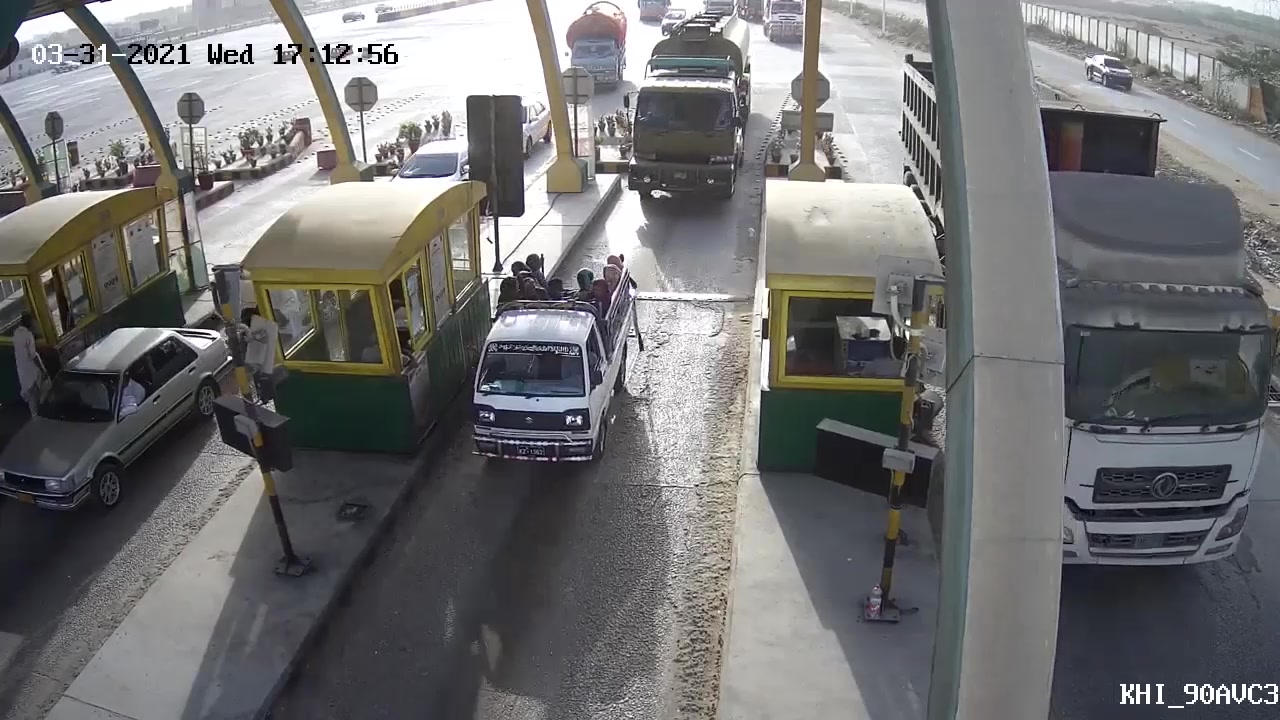F1: (470, 251, 665, 465)
F6: (617, 8, 753, 205)
